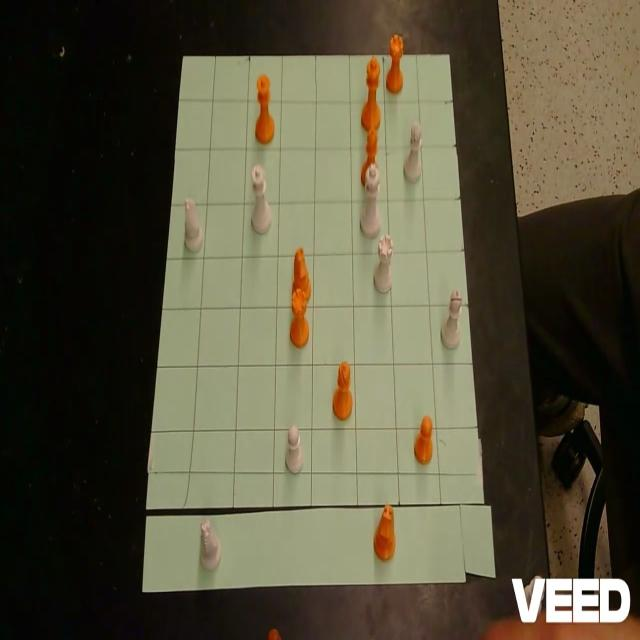orange_bishop: (332, 361, 353, 420), (362, 126, 378, 186)
orange_king: (361, 58, 380, 132)
orange_knight: (374, 504, 396, 560), (292, 246, 311, 304), (268, 628, 282, 640)
orange_pawn: (414, 415, 434, 464)
orange_queen: (254, 74, 274, 144)
orange_rook: (290, 286, 310, 348), (386, 32, 404, 92)
white_bishop: (440, 288, 462, 349), (404, 120, 422, 182)
white_king: (360, 162, 381, 236)
white_knight: (200, 518, 222, 570), (184, 197, 204, 253)
white_pawn: (286, 424, 304, 475)
white_queen: (250, 163, 272, 234)
white_rook: (374, 233, 394, 293)
